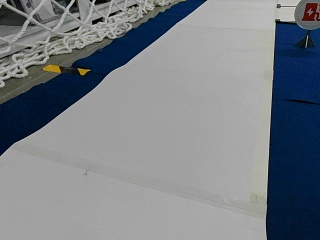battery: (295, 0, 320, 29)
